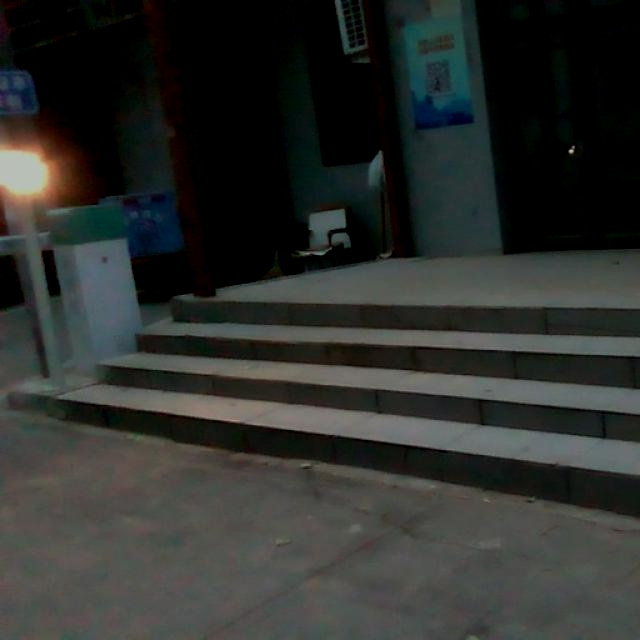stair: (148, 293, 635, 465)
